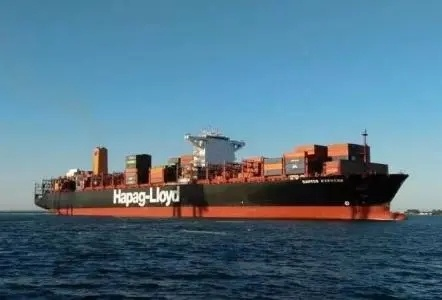Cargoship: (24, 124, 411, 218)
